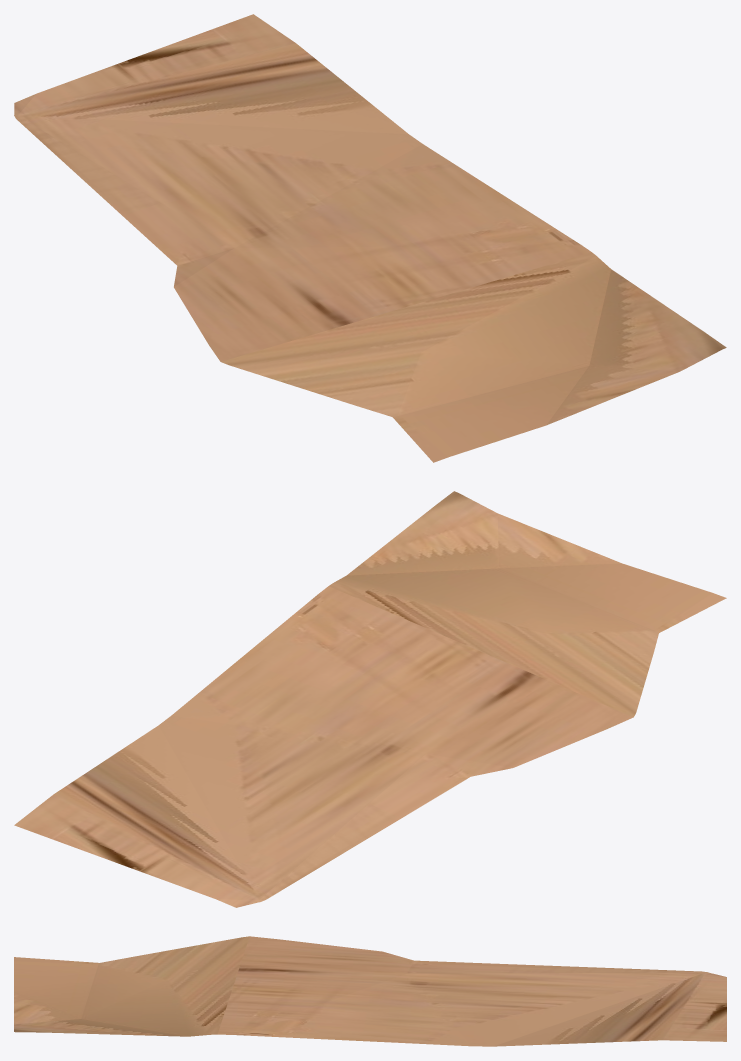
3 renders of one model, top to bottom at view 1: azimuth 30°, elevation 25°; view 2: azimuth 150°, elevation 25°; view 3: azimuth 270°, elevation 25°, orthographic. The views are drawn at different scales.
Bounding box in the file's own units: 0.8912 × 0.1058 × 2.09.
Materials: 1 (1 with a texture image).
